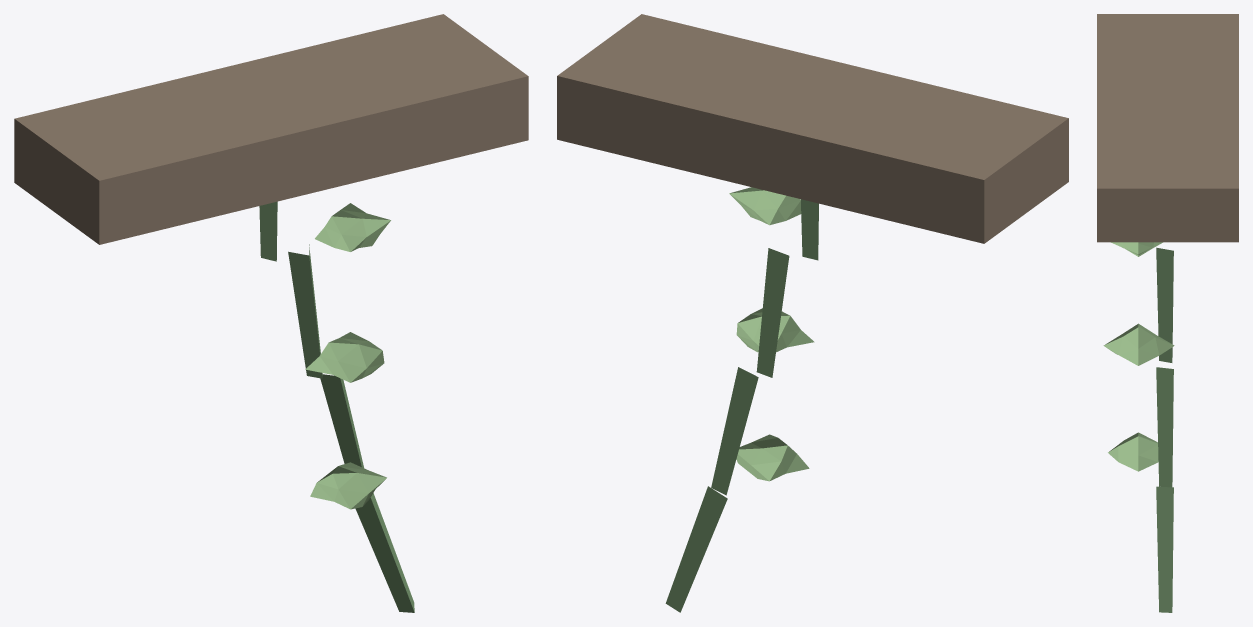
The model's file is vine_v00.glb.
The picture shows the model from 3 angles, left to right: view 1: azimuth 30°, elevation 25°; view 2: azimuth 150°, elevation 25°; view 3: azimuth 270°, elevation 25°; orthographic projection. The views are drawn at different scales.
Visible parts, largest first — view 1: lod0; view 2: lod0; view 3: lod0.
Part boxes in pixels (x1,y1,x2,y2): lod0: (14, 14, 528, 612); lod0: (557, 14, 1068, 612); lod0: (1097, 14, 1238, 612).
Size of what is drawn, in the model's own units: 0.7 by 0.8546 by 0.24.
